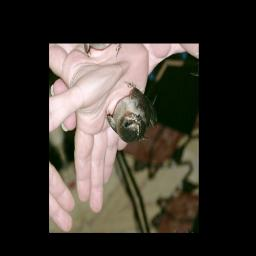Swallow: (98, 64, 169, 160)
